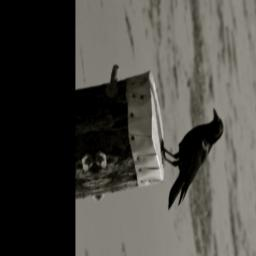Crow: (154, 104, 235, 213)
